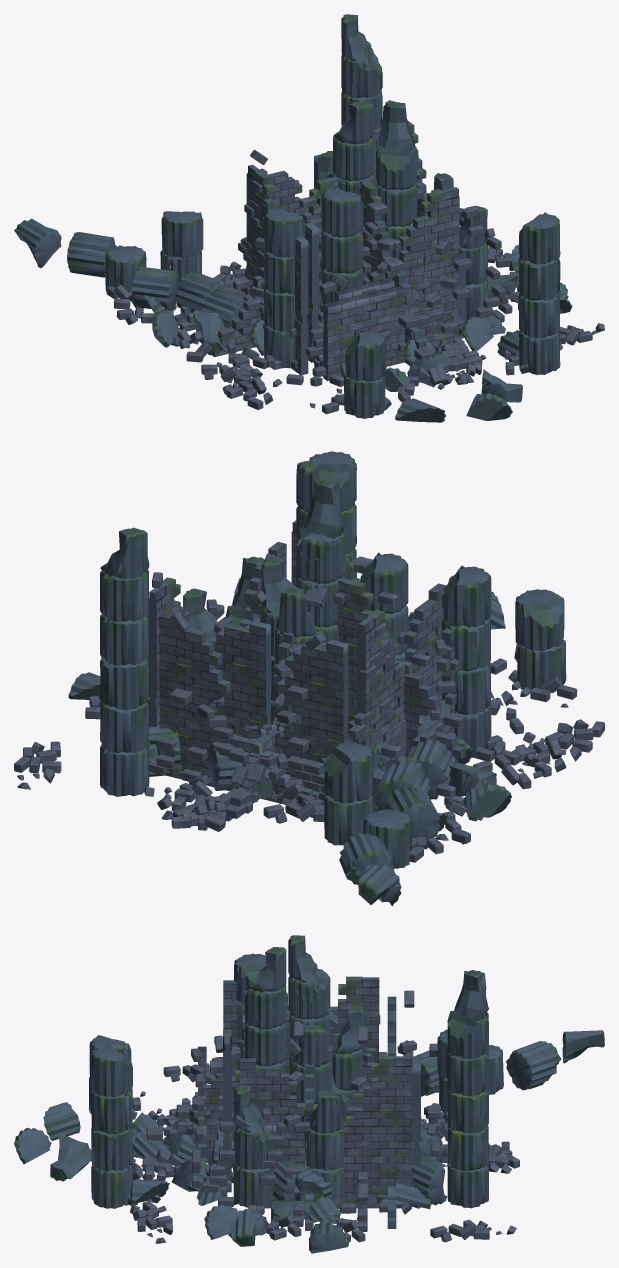
Rendered from ruinas.glb.
3 views of the same model, one above another, from view 1: azimuth 30°, elevation 25°; view 2: azimuth 150°, elevation 25°; view 3: azimuth 270°, elevation 25° (orthographic). The views are drawn at different scales.
Parts seen in each view (by area): view 1: pillar3, pillar10, walls10, bricks3, bricks2, pillars12, pillar6, walls6, bricks10, wall2, wall7, walls12 (+7 smaller); view 2: pillar10, pillar3, walls10, wall7, bricks10, wall2, walls1, bricks2, bricks3, pillars12, pilar7, bricks7 (+10 smaller); view 3: pillar3, pillar10, walls10, bricks3, pillar6, walls6, bricks10, pillars12, wall7, pilar7, bricks2, wall8 (+13 smaller).
Boxes of the visible parts, left/top/right/bottom form: pillar3: left=14, top=173, right=572, bottom=422; pillar10: left=145, top=14, right=568, bottom=368; walls10: left=252, top=120, right=454, bottom=381; bricks3: left=177, top=206, right=562, bottom=414; bricks2: left=178, top=172, right=518, bottom=391; pillars12: left=230, top=187, right=493, bottom=350; pillar6: left=376, top=102, right=417, bottom=259; walls6: left=370, top=187, right=459, bottom=323; bricks10: left=106, top=100, right=604, bottom=386; wall2: left=212, top=176, right=426, bottom=365; wall7: left=246, top=164, right=313, bottom=362; walls12: left=241, top=222, right=464, bottom=362; pillar10: left=100, top=527, right=511, bottom=845; pillar3: left=68, top=451, right=566, bottom=905; walls10: left=148, top=577, right=475, bottom=806; wall7: left=234, top=609, right=404, bottom=779; bricks10: left=144, top=572, right=566, bottom=862; wall2: left=226, top=558, right=485, bottom=821; walls1: left=208, top=621, right=396, bottom=811; bricks2: left=190, top=558, right=543, bottom=827; bricks3: left=14, top=561, right=604, bottom=831; pillars12: left=148, top=552, right=415, bottom=798; pilar7: left=296, top=479, right=345, bottom=642; bricks7: left=243, top=623, right=405, bottom=793; pillar3: left=14, top=1030, right=604, bottom=1253; pillar10: left=130, top=953, right=488, bottom=1246; walls10: left=198, top=980, right=420, bottom=1208; bricks3: left=128, top=1048, right=516, bottom=1242; pillar6: left=245, top=947, right=286, bottom=1073; walls6: left=223, top=1029, right=304, bottom=1192; bricks10: left=130, top=1035, right=488, bottom=1243; pillars12: left=171, top=992, right=447, bottom=1205; wall7: left=330, top=976, right=396, bottom=1062; pilar7: left=288, top=935, right=330, bottom=1095; bricks2: left=132, top=1010, right=507, bottom=1240; wall8: left=167, top=1011, right=447, bottom=1162.
Bounding box in the file's own units: 6.93 × 3.81 × 9.
2 materials, 2 textured.
